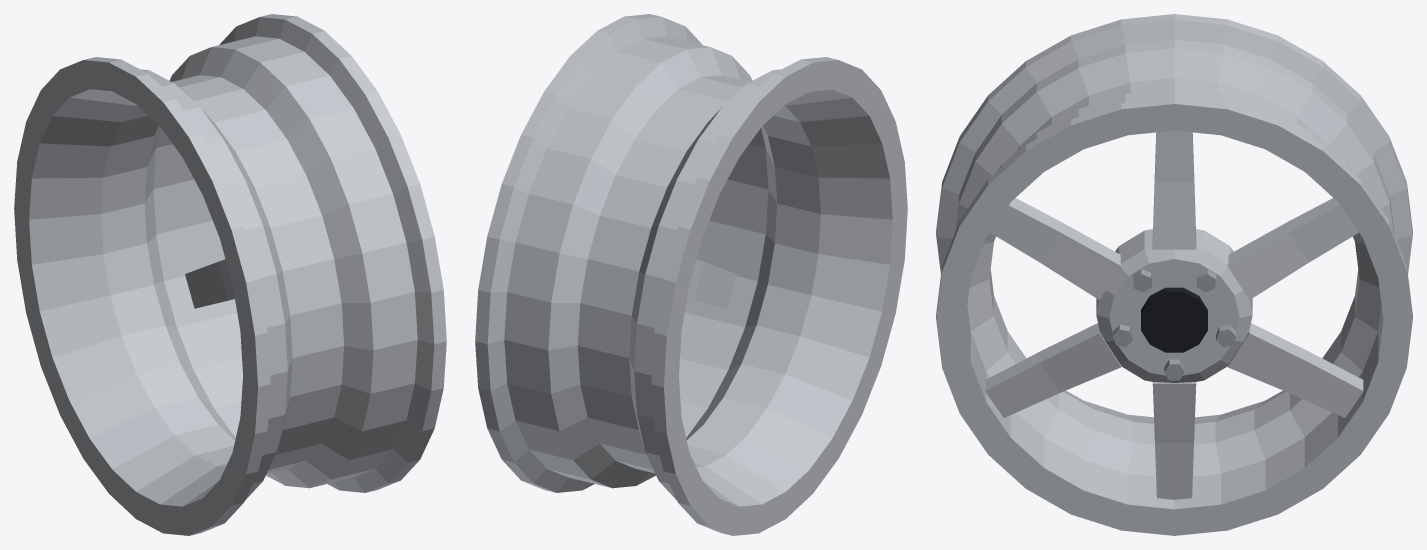
Rendered from rim_6spoke_16.glb.
The picture shows the model from 3 angles, left to right: view 1: azimuth 30°, elevation 25°; view 2: azimuth 150°, elevation 25°; view 3: azimuth 270°, elevation 25°; orthographic projection. The views are drawn at different scales.
Visible parts, largest first — view 1: model; view 2: model; view 3: model.
Boxes of the visible parts, <box> form: model: <box>14,14,446,535</box>; model: <box>475,14,907,535</box>; model: <box>936,14,1412,535</box>.
Bounding box in the file's own units: 0.2028 × 0.4384 × 0.4384.
3 materials, 1 textured.
